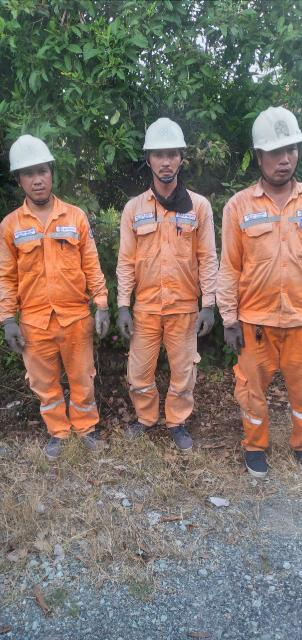gloves: (212, 308, 252, 358), (0, 308, 39, 353), (113, 301, 142, 345), (189, 300, 220, 337), (87, 299, 115, 338)
helmet: (2, 127, 73, 185), (138, 109, 192, 159), (249, 103, 302, 153)
shoes: (102, 412, 161, 446), (160, 419, 205, 454), (37, 430, 73, 459), (69, 427, 105, 456), (237, 449, 273, 477)
